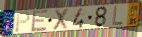4: (71, 7, 85, 29)
8: (93, 6, 108, 28)
E: (30, 9, 49, 34)
L: (111, 5, 124, 27)
P: (15, 11, 32, 33)
X: (51, 8, 70, 32)
